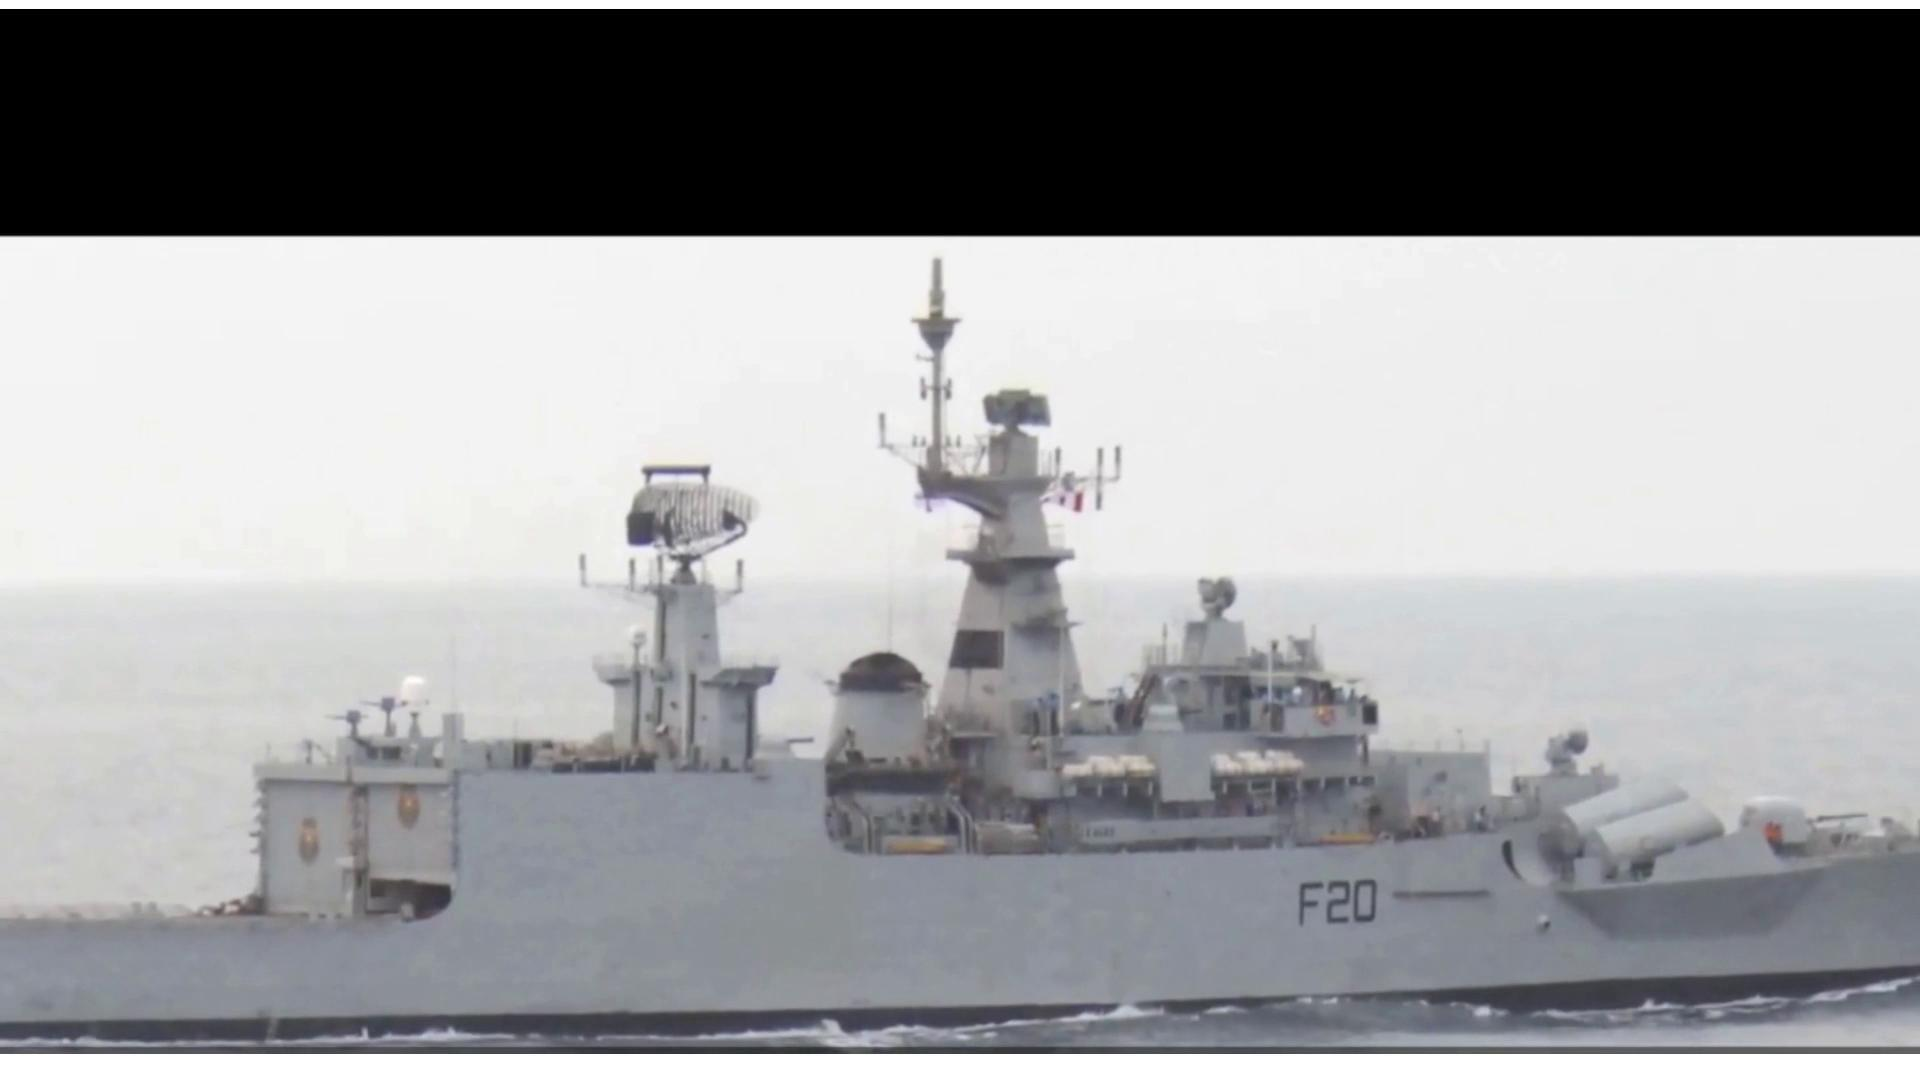OCR: (1275, 868, 1380, 936)
